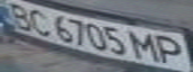0: (84, 20, 106, 52)
5: (103, 24, 130, 56)
6: (48, 11, 75, 44)
7: (66, 17, 87, 47)
B: (0, 0, 36, 30)
C: (21, 6, 54, 37)
M: (127, 29, 163, 62)
P: (151, 33, 190, 66)
